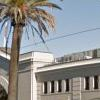Palm tree: (3, 1, 35, 95)
